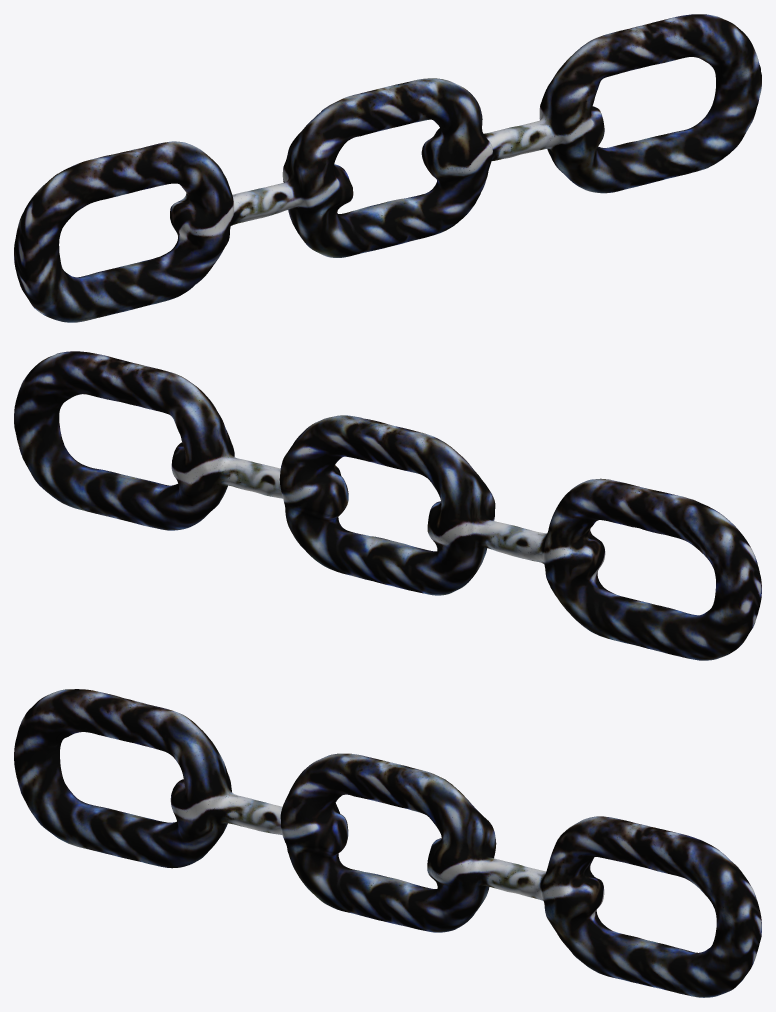
The model's file is 87333773246f_a_flat_black_chain_.fbx.
The picture shows the model from 3 angles, top to bottom: view 1: azimuth 30°, elevation 25°; view 2: azimuth 150°, elevation 25°; view 3: azimuth 330°, elevation 25°; orthographic projection.
Visible parts, largest first — view 1: high_poly; view 2: high_poly; view 3: high_poly.
Boxes of the visible parts, bbox=[...] form: high_poly: bbox=[14, 14, 761, 322]; high_poly: bbox=[14, 351, 761, 660]; high_poly: bbox=[14, 689, 761, 997].
Bounding box in the file's own units: 100 × 20.33 × 7.57.
